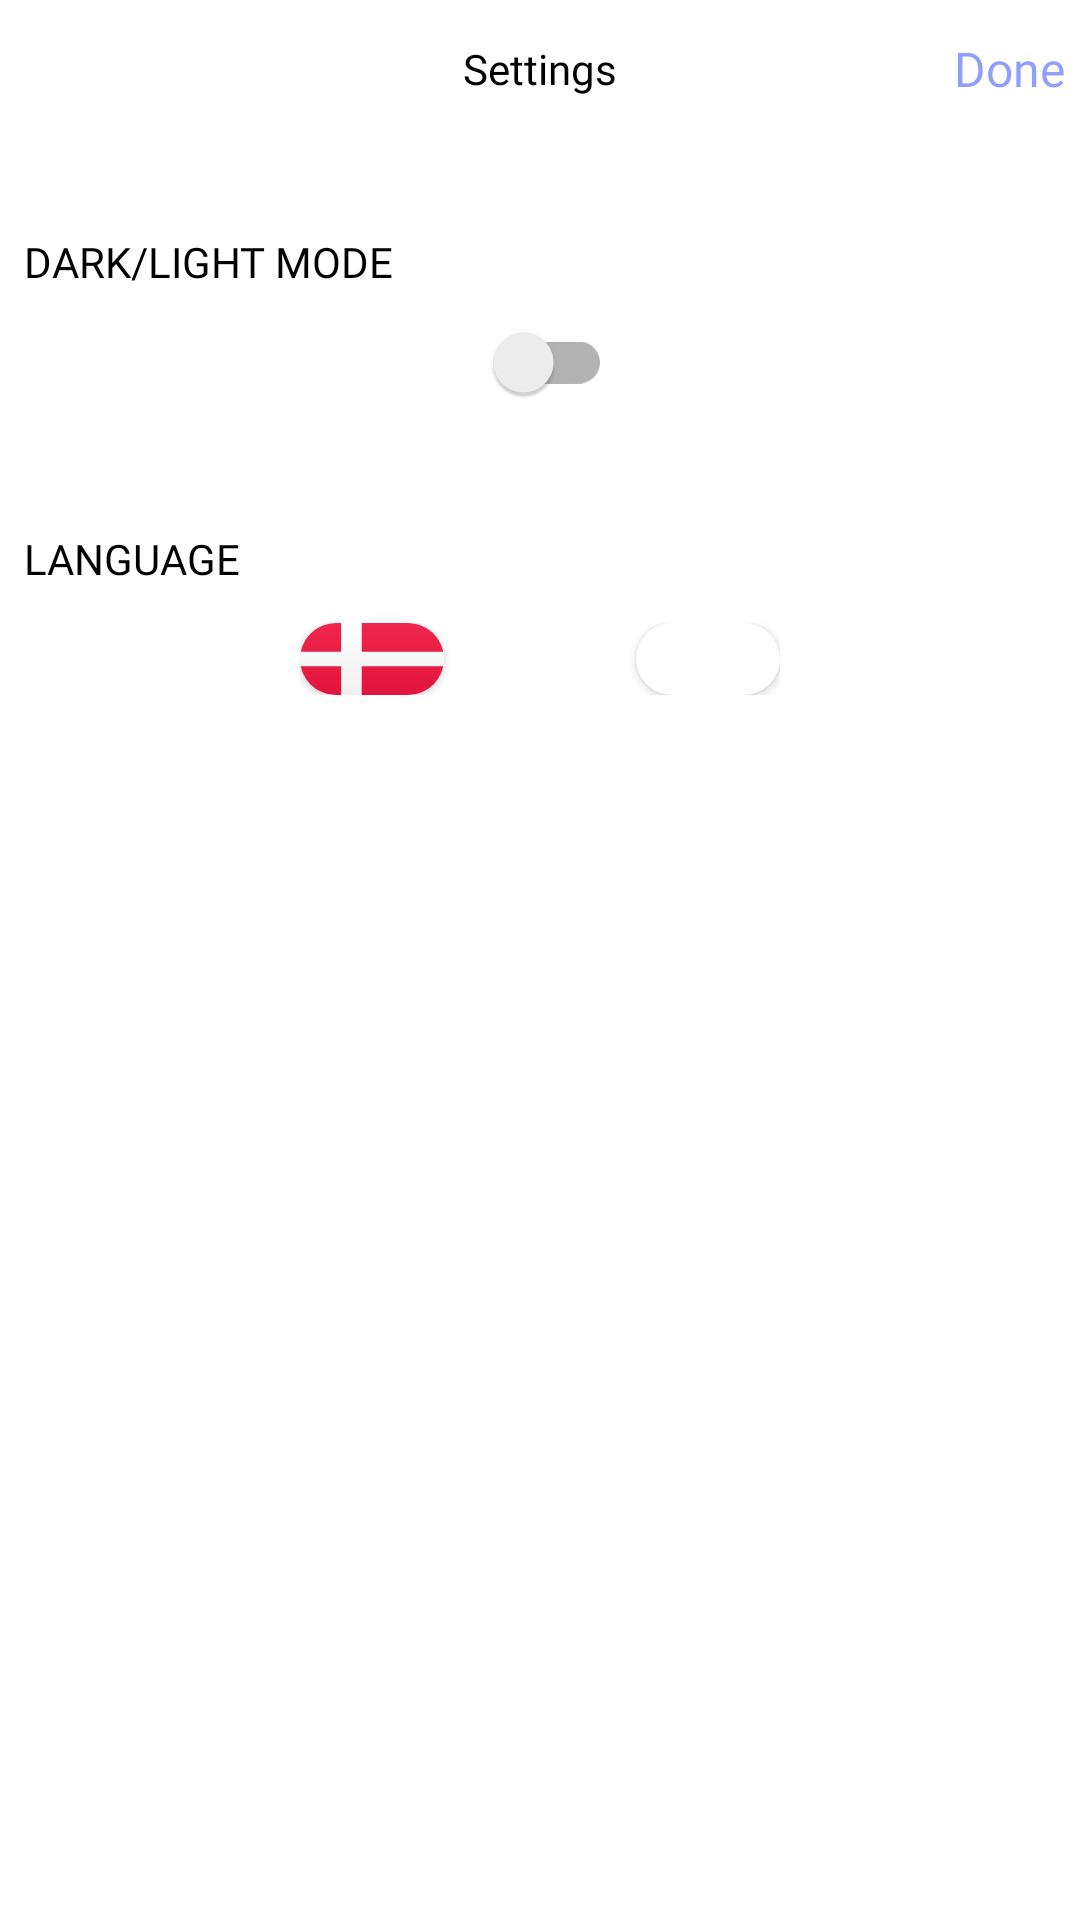

Icon bounding boxes for this 1080 x 1920 phone screenshot, format (x1, y1, x2, y2):
flag dk: (300, 623, 444, 695)
